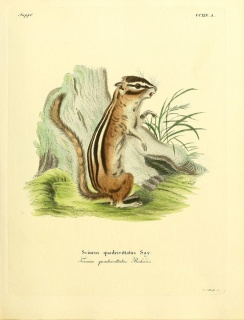Squirrel: (48, 75, 160, 210)
